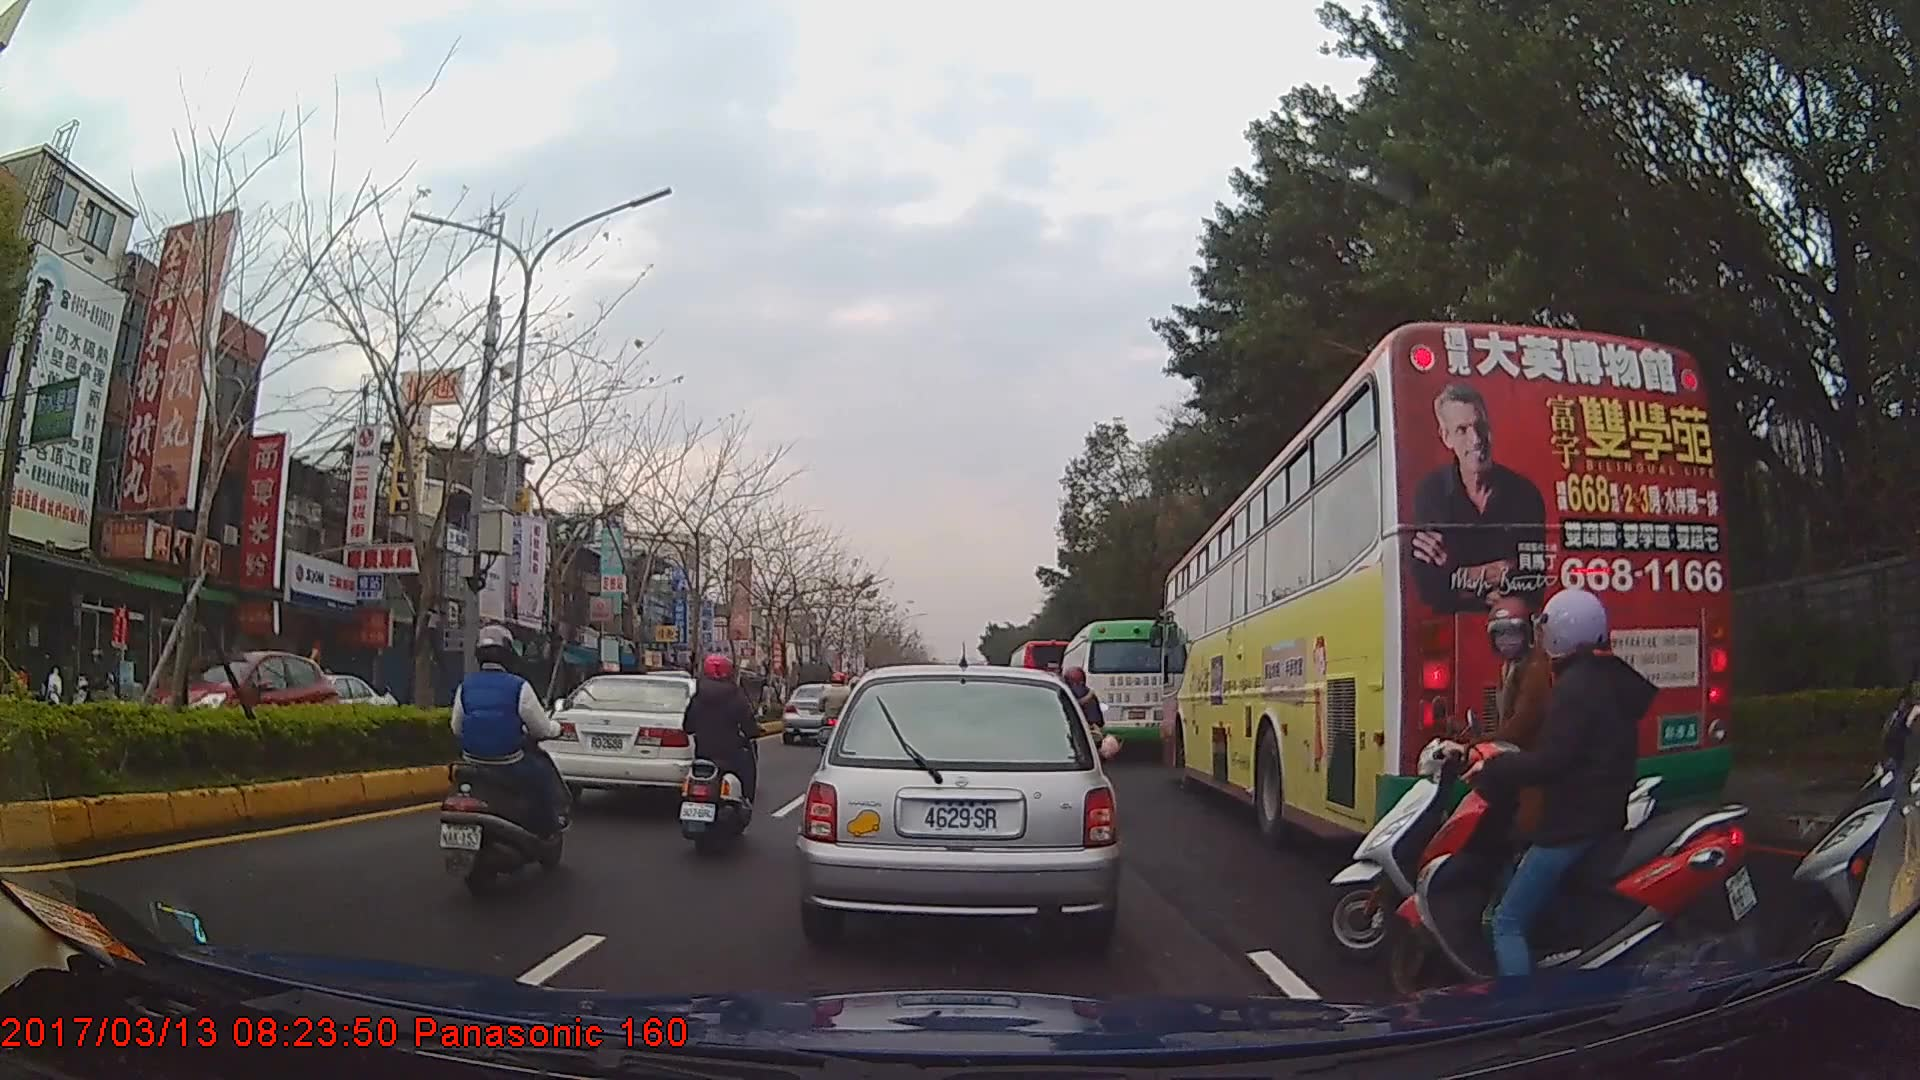rider: (1382, 584, 1761, 1045), (1314, 598, 1658, 977), (1788, 545, 1920, 977), (440, 628, 574, 891), (679, 650, 761, 858), (1057, 665, 1119, 785), (825, 671, 861, 759)
vehicle: (1163, 318, 1733, 854), (795, 662, 1120, 949), (541, 672, 757, 811), (132, 649, 337, 759), (1058, 618, 1187, 762), (256, 670, 384, 736)
